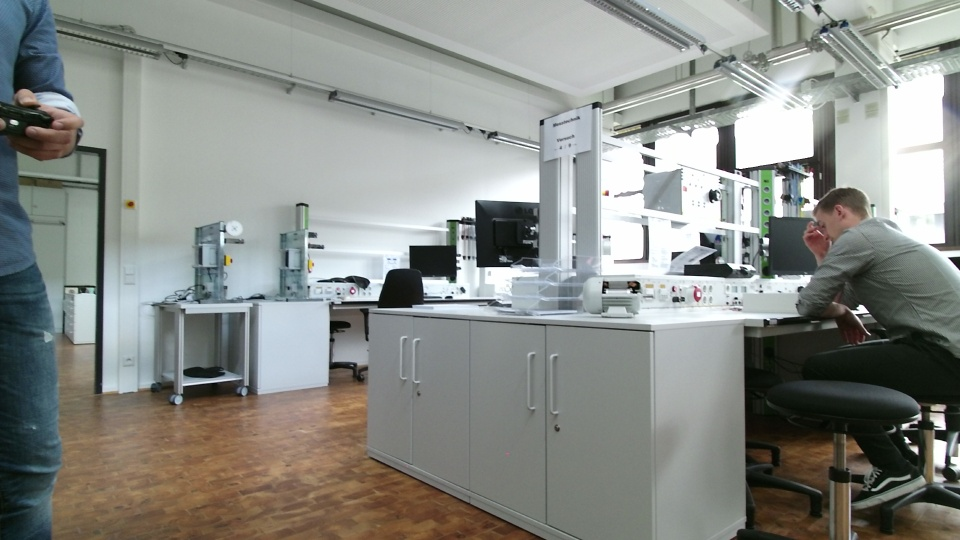Person: (787, 171, 960, 527), (1, 4, 93, 540)
